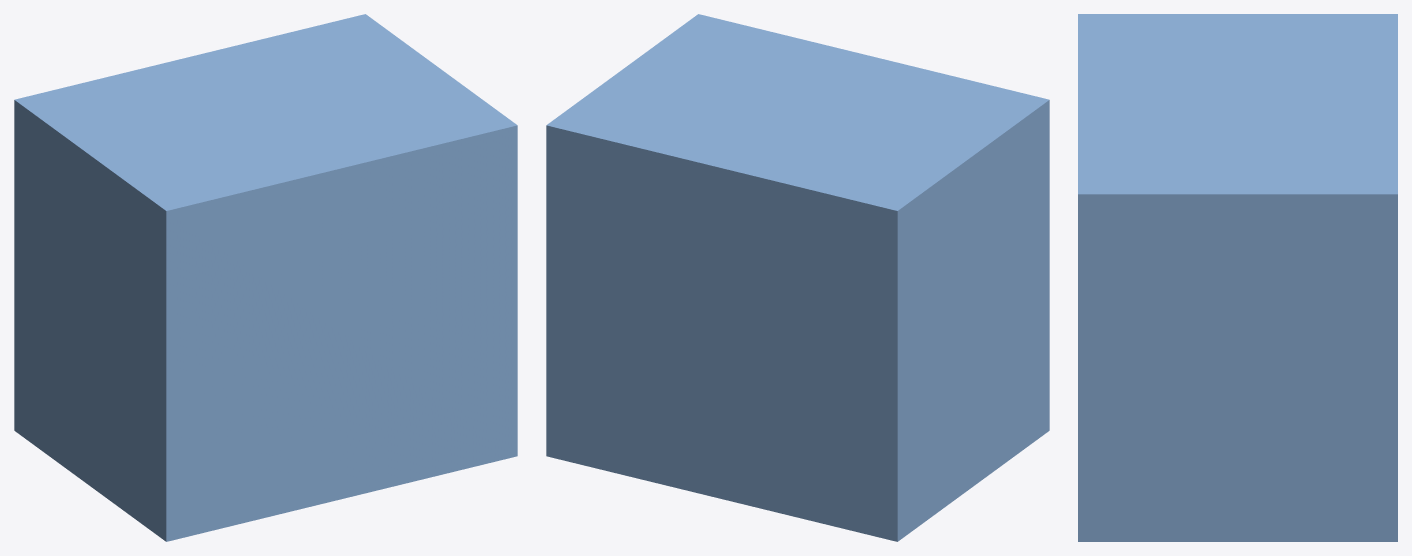
Rendered from synthetic-input.glb.
3 renders of one model, left to right at view 1: azimuth 30°, elevation 25°; view 2: azimuth 150°, elevation 25°; view 3: azimuth 270°, elevation 25°, orthographic. The views are drawn at different scales.
Visible parts, largest first — view 1: SM_prop_energy_crate_01_LOD0; view 2: SM_prop_energy_crate_01_LOD0; view 3: SM_prop_energy_crate_01_LOD0.
Boxes of the visible parts, x1,y1,x2,y2 form: SM_prop_energy_crate_01_LOD0: (14, 14, 517, 541); SM_prop_energy_crate_01_LOD0: (546, 14, 1049, 541); SM_prop_energy_crate_01_LOD0: (1078, 14, 1397, 541).
Size of the model in its own units: 2 by 1.8 by 1.5.
